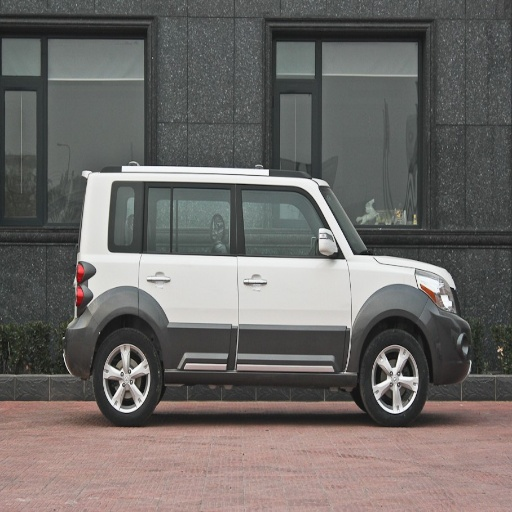back_right_door: (142, 181, 236, 368)
front_right_door: (236, 182, 350, 369)
